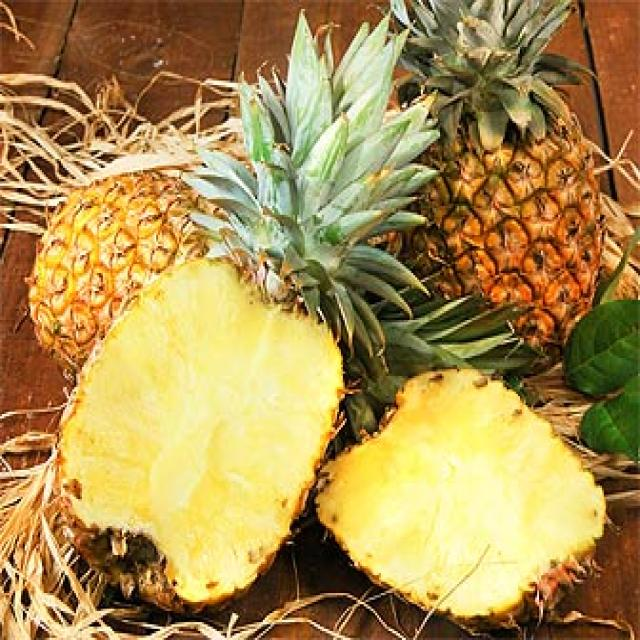pineapple: (50, 154, 374, 622), (389, 54, 615, 370)
